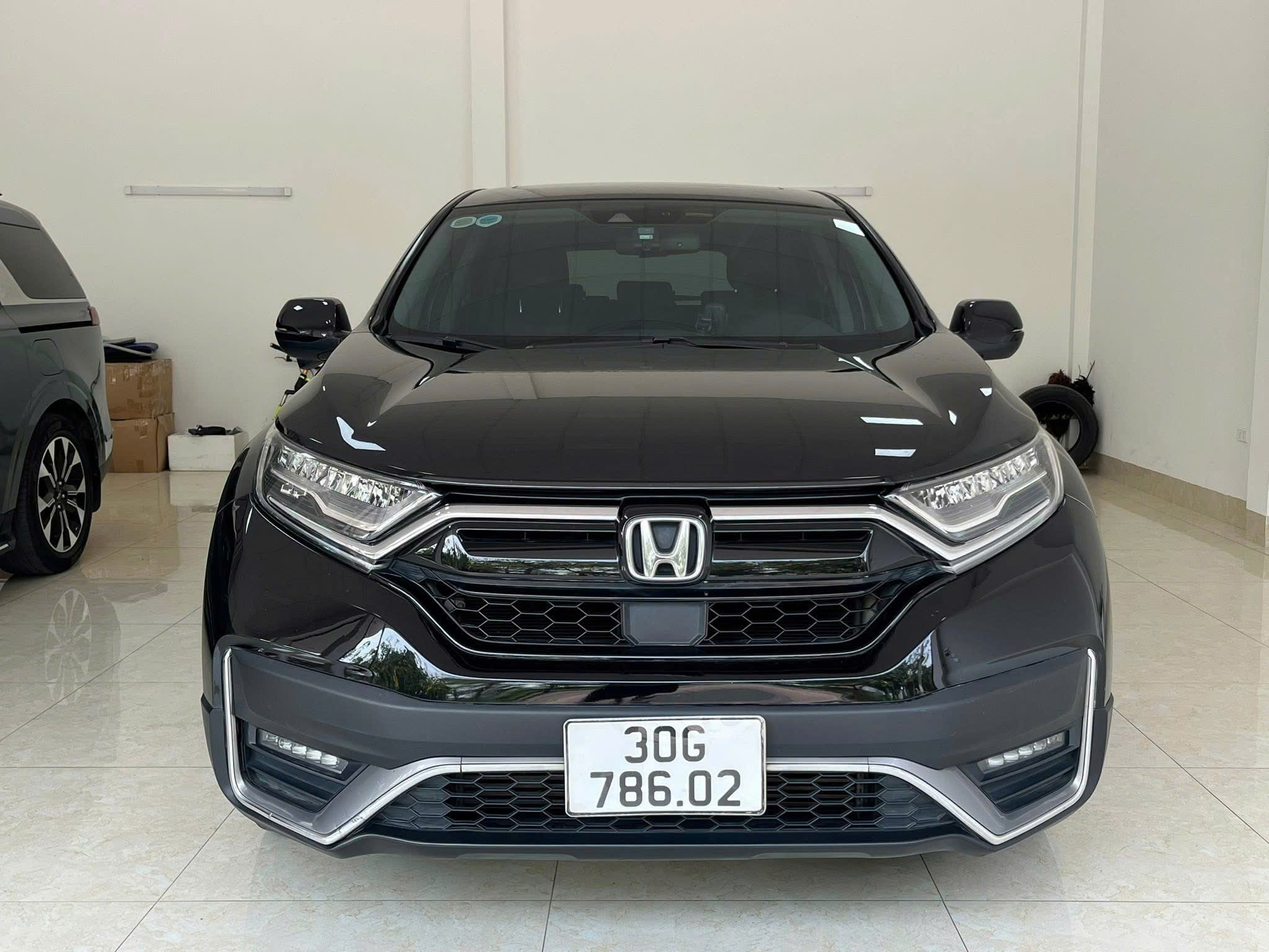Bien-so: (596, 672, 822, 790)
